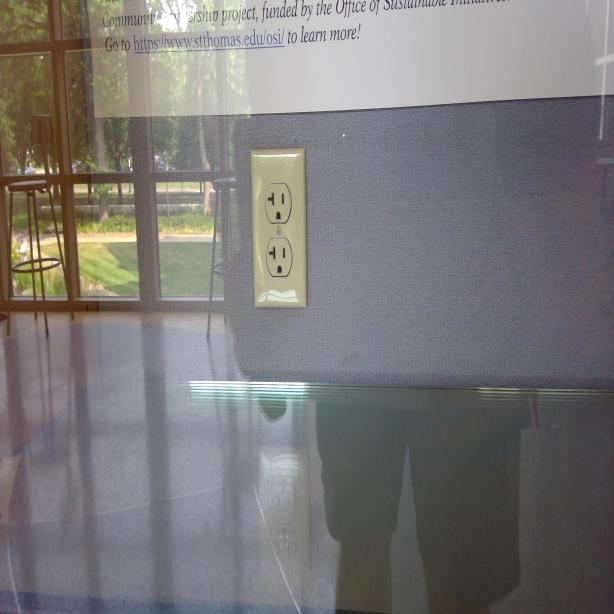typeb: (264, 179, 292, 224), (266, 240, 290, 278)
